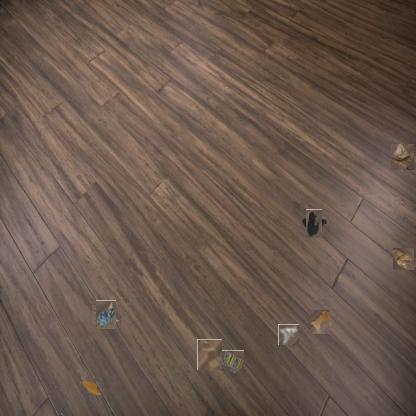dirty: (197, 339, 222, 370), (392, 144, 416, 170), (94, 303, 119, 327), (303, 212, 326, 235), (221, 350, 244, 372), (394, 248, 416, 270), (278, 324, 299, 345)
liquid: (308, 311, 331, 334), (80, 379, 102, 395)
